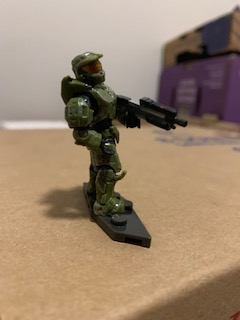chief: (59, 51, 142, 215)
rifle: (114, 92, 188, 133)
spartan: (57, 49, 140, 213)
